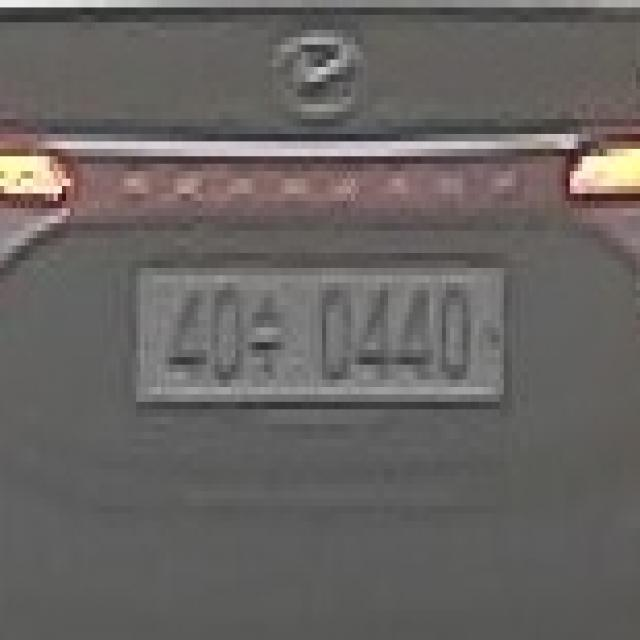0: (206, 276, 244, 380), (318, 275, 351, 387), (438, 283, 470, 387)
4: (392, 276, 434, 394), (355, 275, 392, 387), (165, 290, 207, 387)
license_plate: (128, 246, 516, 409)
su: (248, 283, 285, 379)
